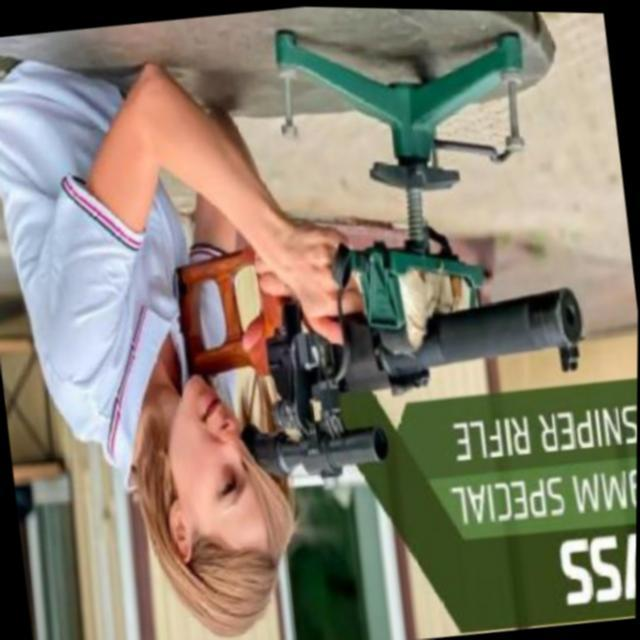weapon: (202, 232, 618, 498)
